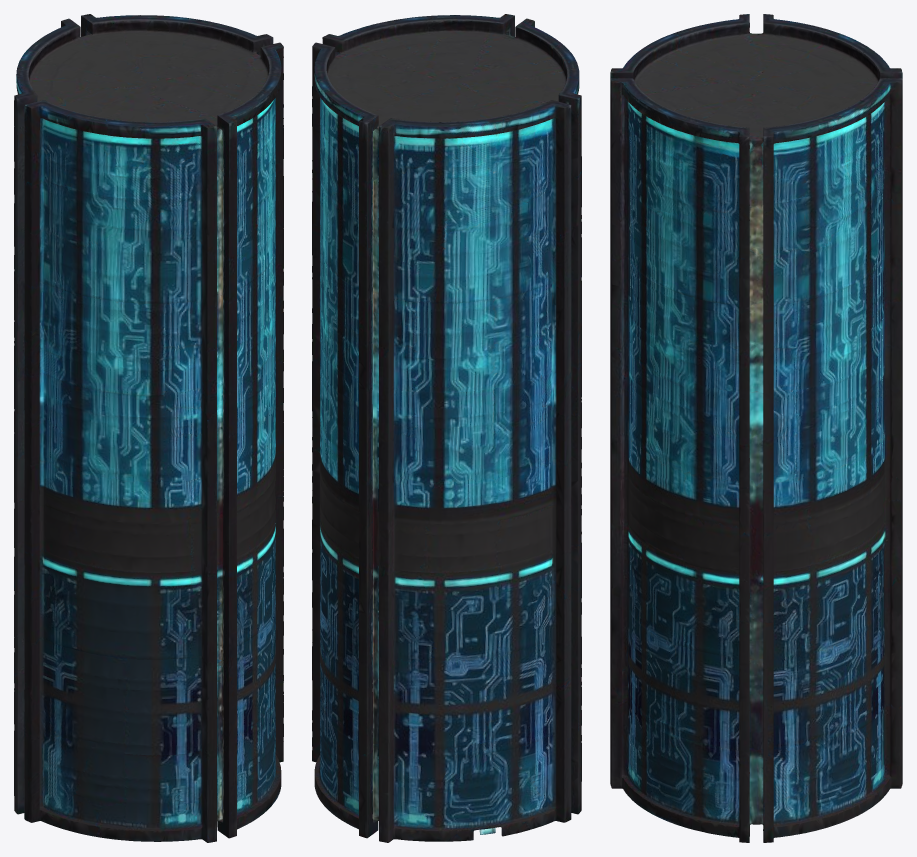
Rendered from city_tower_blue_draco.glb.
The picture shows the model from 3 angles, left to right: view 1: azimuth 30°, elevation 25°; view 2: azimuth 150°, elevation 25°; view 3: azimuth 270°, elevation 25°; orthographic projection.
Bounding box in the file's own units: 0.7121 × 1.9 × 0.7129.
1 material, 1 textured.
